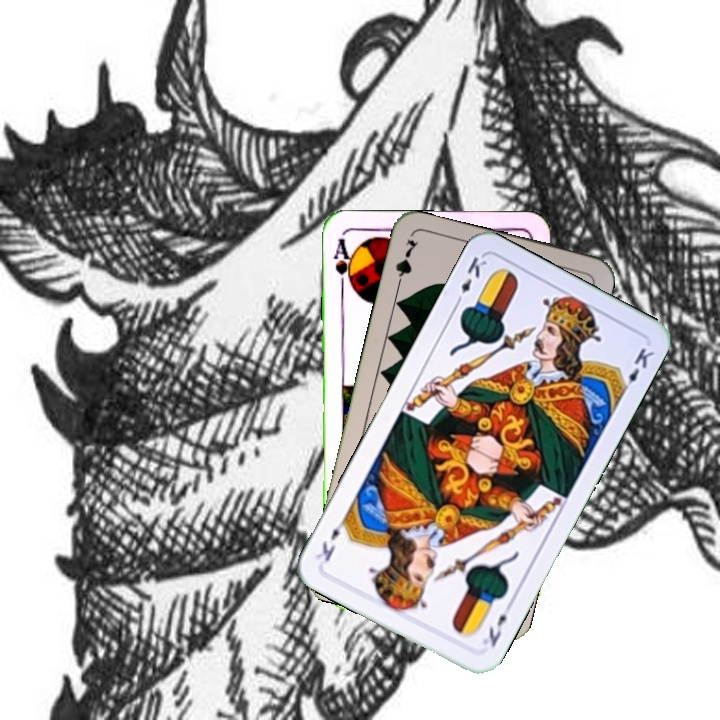EK: (450, 252, 490, 308), (478, 598, 515, 650)
G7: (391, 234, 421, 293)
SA: (329, 235, 356, 294)
